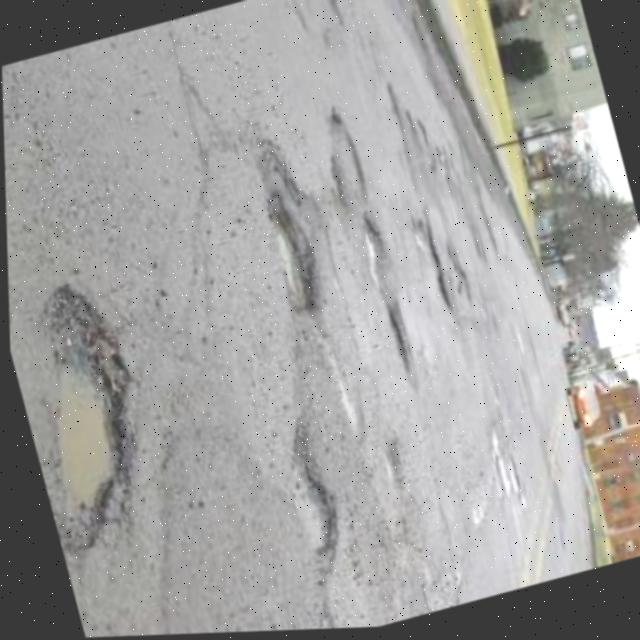Pothole: (6, 269, 173, 564), (269, 418, 349, 568), (257, 186, 333, 327), (419, 225, 460, 322), (351, 216, 396, 300), (382, 299, 420, 384)
